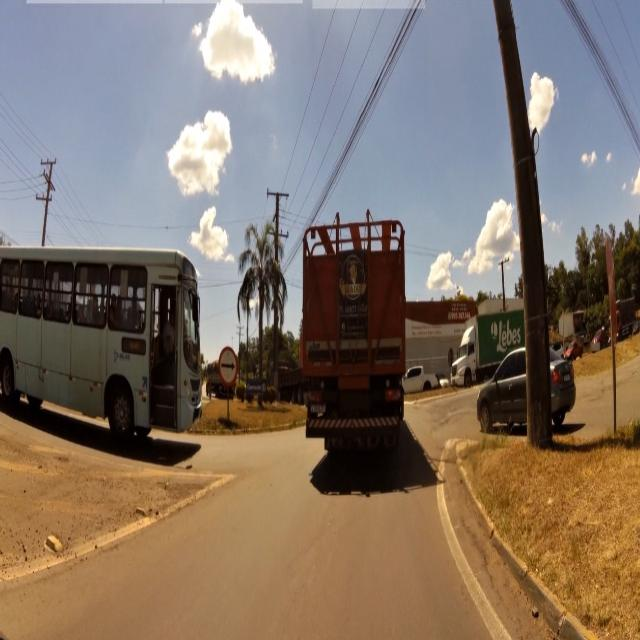R-24a: (220, 344, 238, 389)
